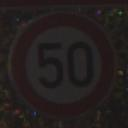speed_limit_50: (6, 10, 120, 122)
